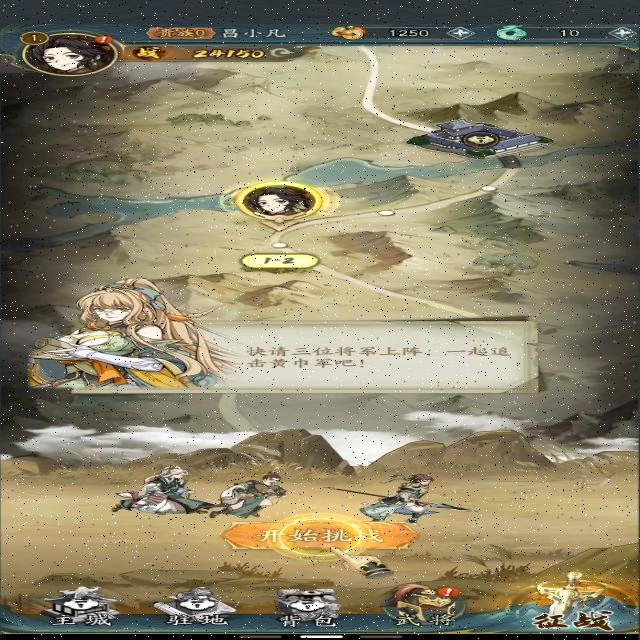hint-guide: (29, 283, 549, 397), (216, 516, 418, 561)
hint-reddot: (435, 580, 467, 601), (88, 30, 122, 48)
navigation-fight: (504, 569, 626, 633)
navigation-hero: (376, 582, 471, 626)
navigation-role: (9, 23, 136, 78)
navigation-station-off: (153, 586, 239, 628)
operation-confirm: (221, 520, 418, 552)
